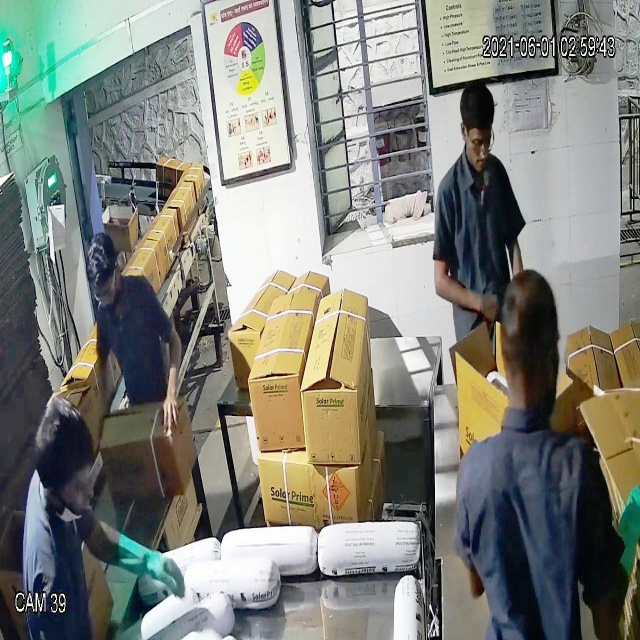Gafas: (455, 126, 502, 159)
